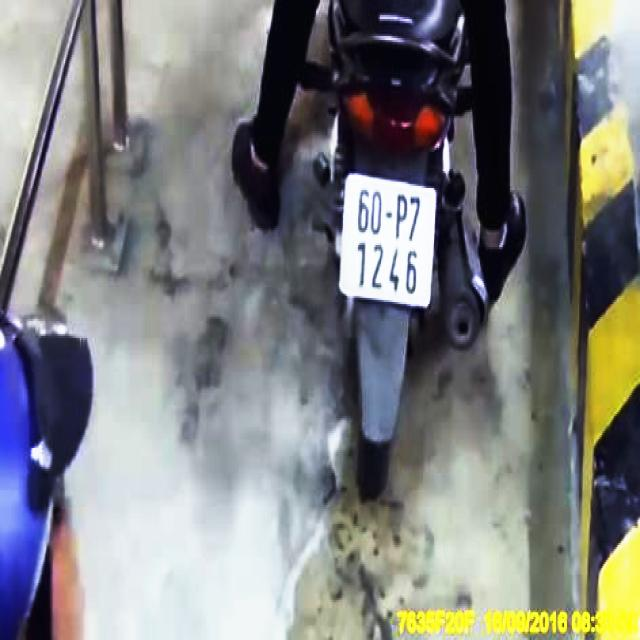license_plate: (344, 176, 440, 304)
